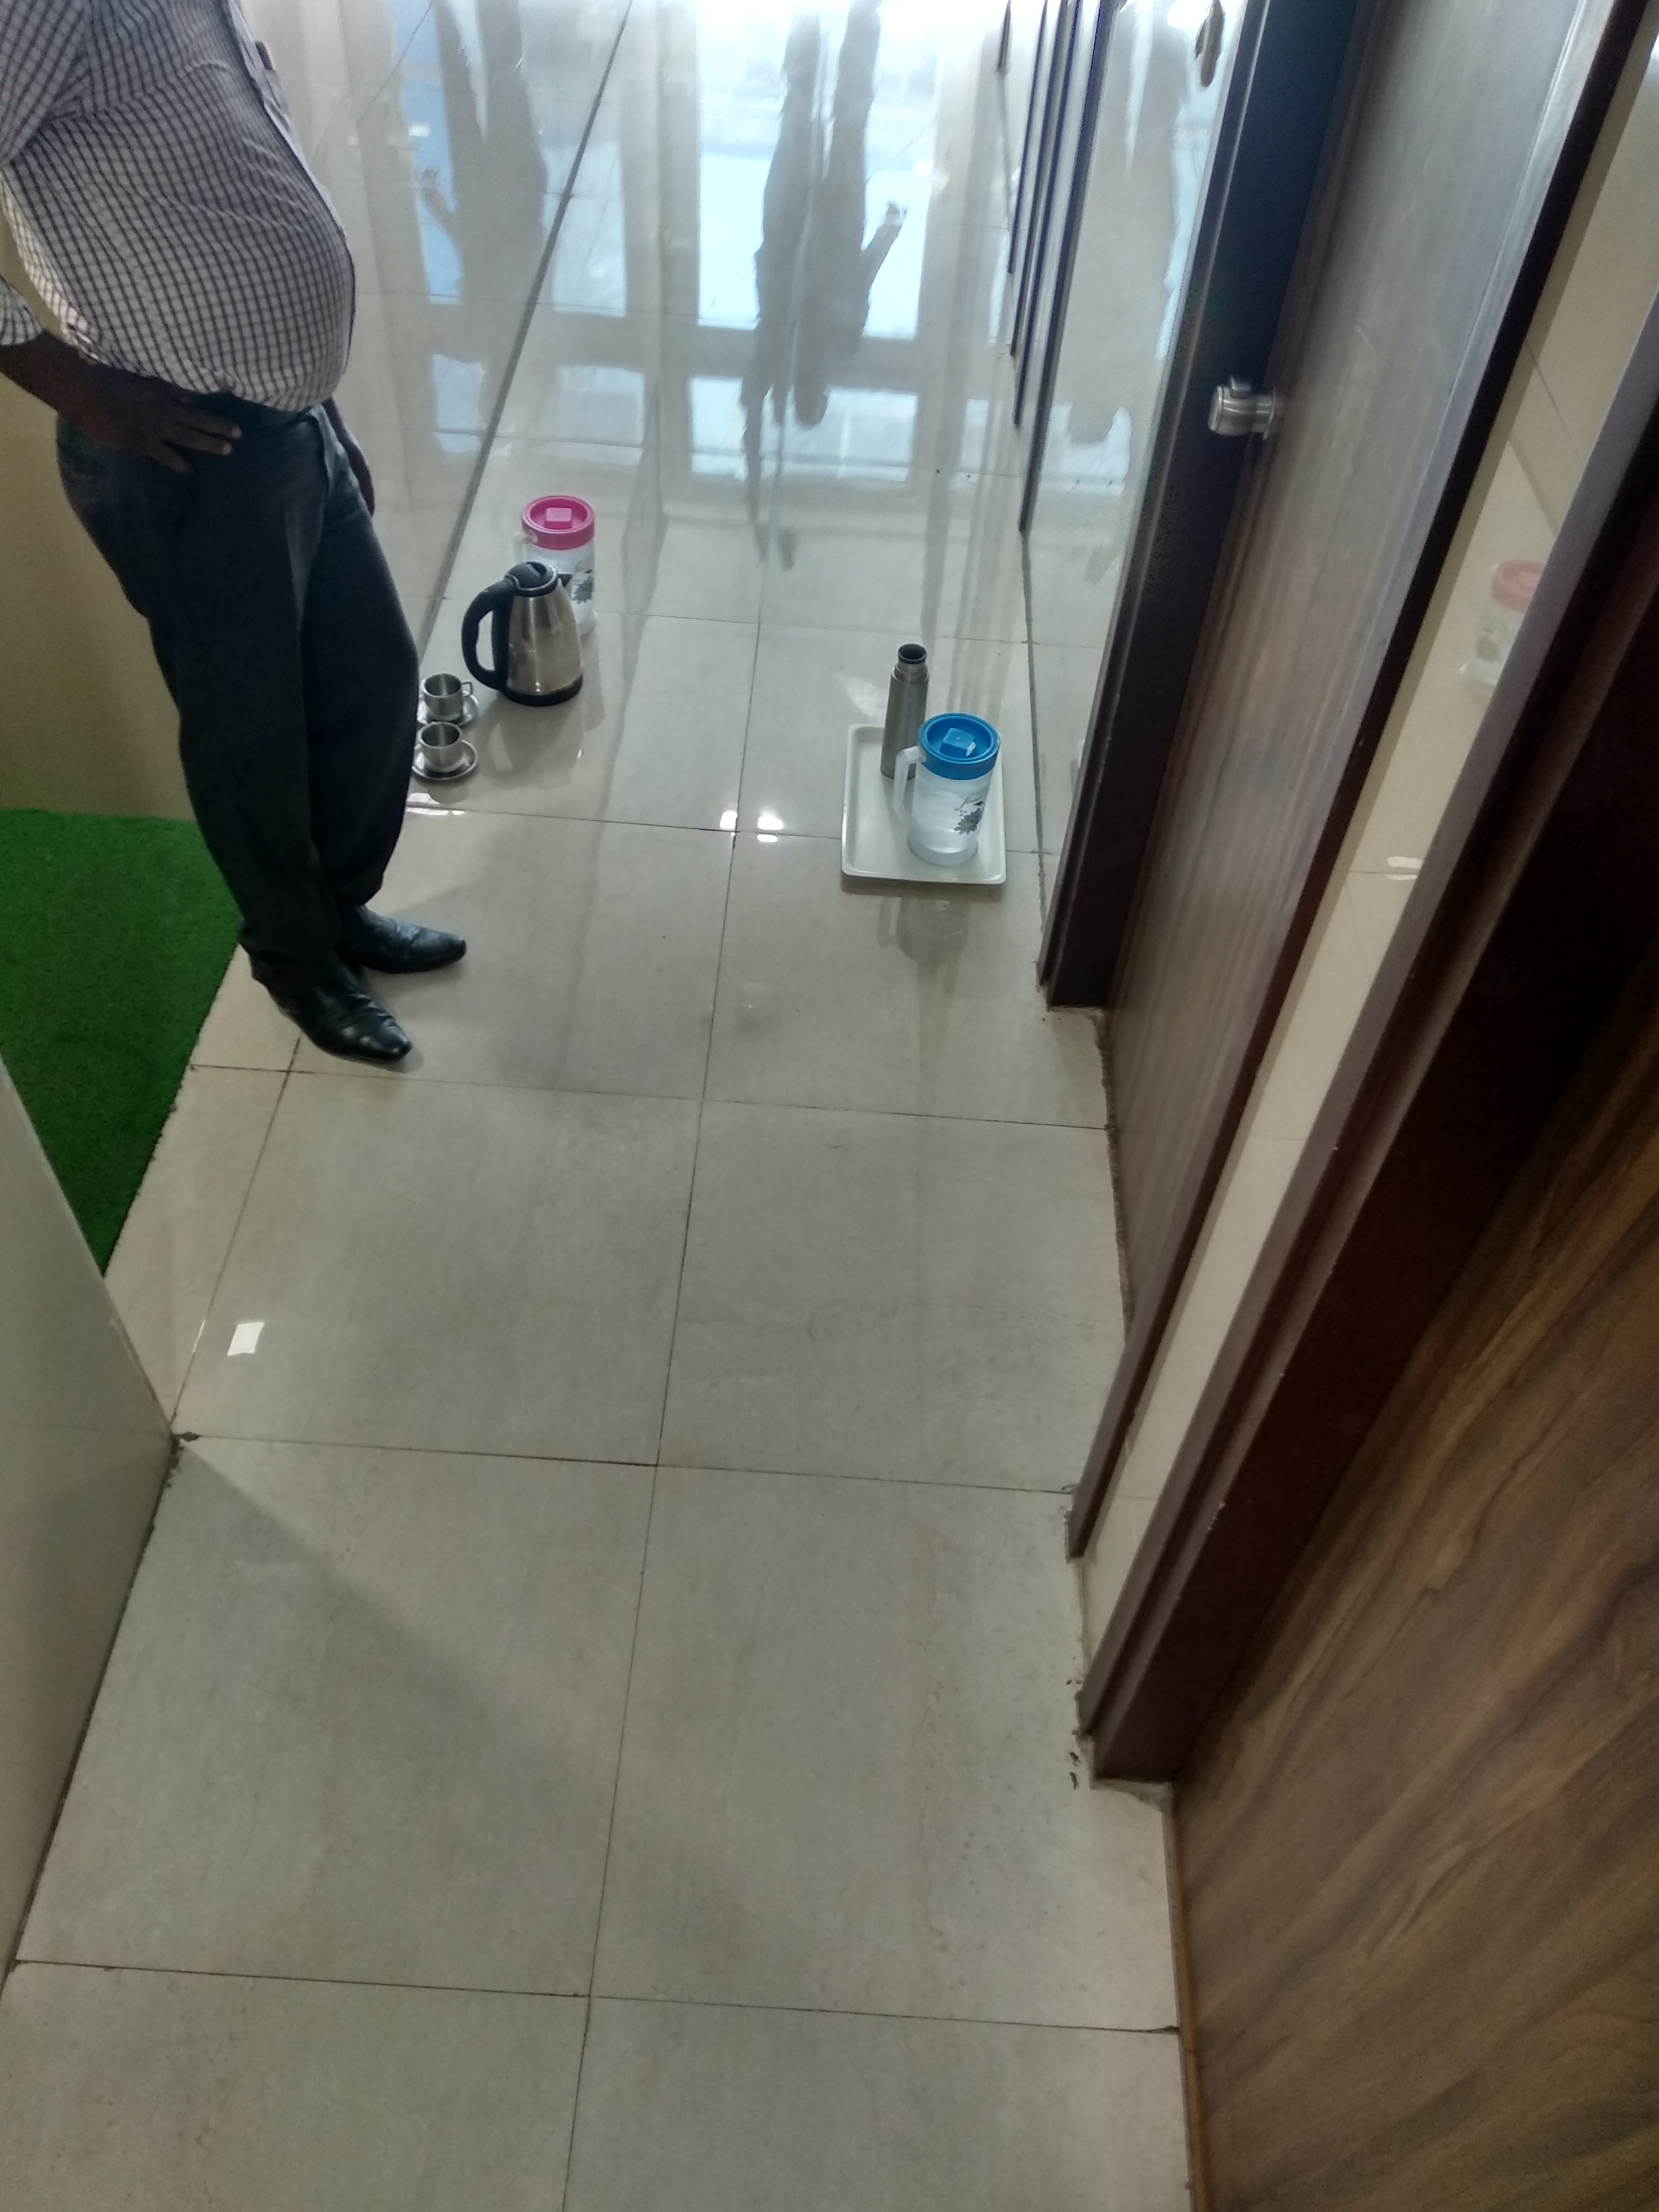CUP: (415, 719, 477, 775), (420, 671, 481, 725)
FLASK: (880, 629, 936, 786)
JUG: (462, 557, 592, 704), (896, 709, 997, 871), (507, 495, 601, 556)
